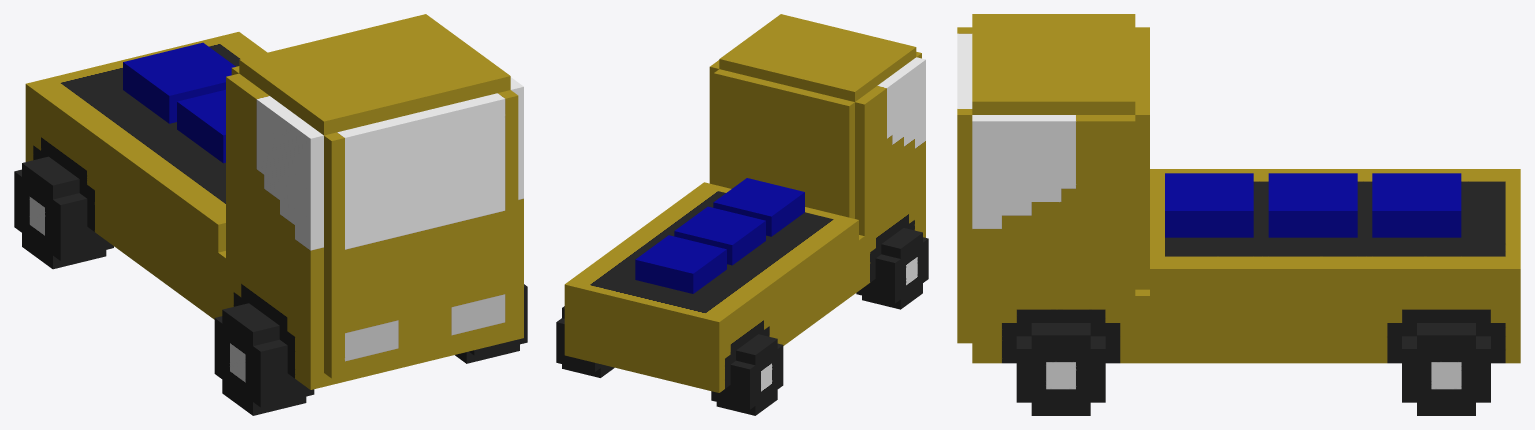
The model's file is Character_9.fbx.
The picture shows the model from 3 angles, left to right: view 1: azimuth 30°, elevation 25°; view 2: azimuth 150°, elevation 25°; view 3: azimuth 270°, elevation 25°; orthographic projection. The views are drawn at different scales.
Visible parts, largest first — view 1: Character_9; view 2: Character_9; view 3: Character_9.
Boxes of the visible parts, x1,y1,x2,y2 form: Character_9: (14,14,527,415); Character_9: (556,14,928,415); Character_9: (957,14,1520,415).
Bounding box in the file's own units: 40 × 44 × 76.
